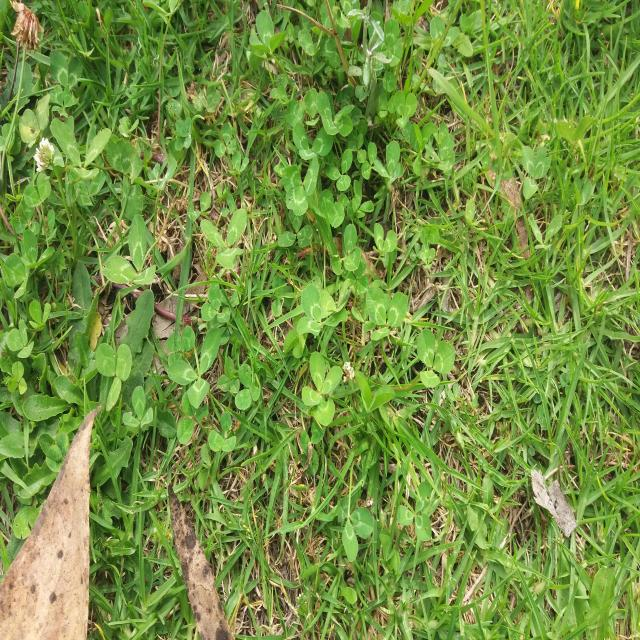Four Leaf Clover: (301, 351, 343, 426), (408, 541, 436, 576)
